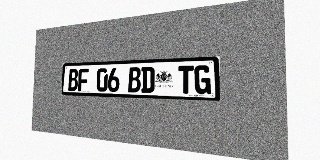0: (96, 68, 108, 92)
6: (108, 68, 120, 92)
B: (128, 67, 141, 93), (68, 69, 78, 91)
D: (141, 67, 155, 93)
F: (78, 69, 89, 91)
G: (194, 65, 211, 94)
T: (178, 65, 194, 94)
